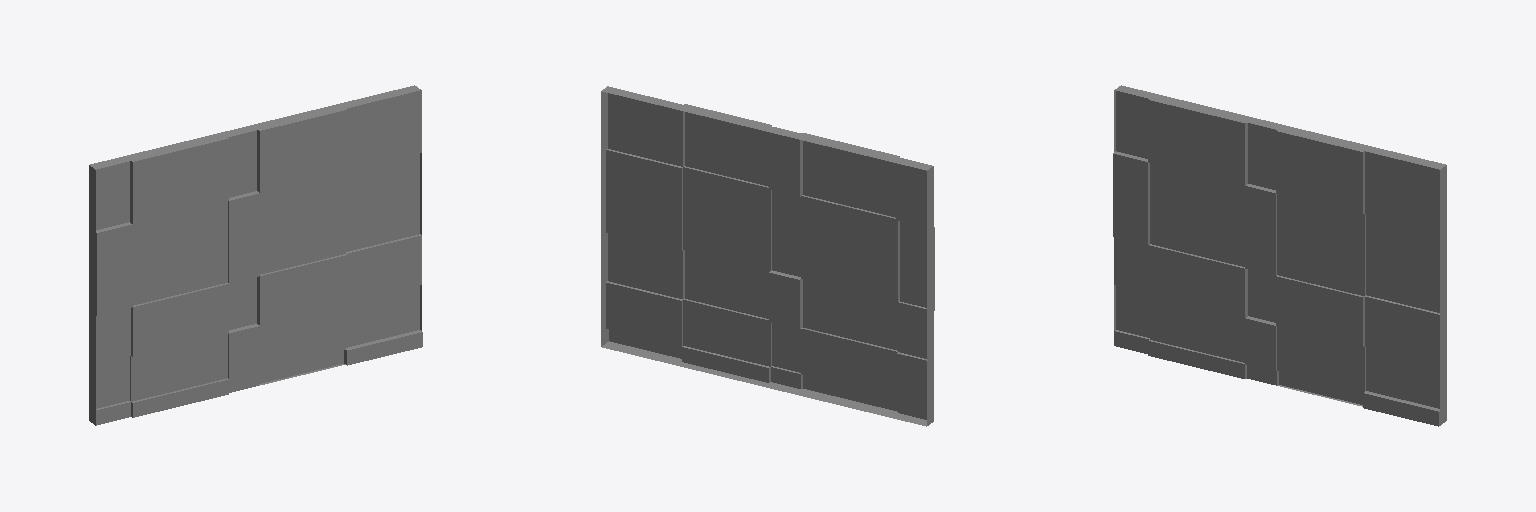
File: Floor.obj
3 renders of one model, left to right at view 1: azimuth 30°, elevation 25°; view 2: azimuth 150°, elevation 25°; view 3: azimuth 330°, elevation 25°, orthographic.
Visible parts, largest first — view 1: Plane001; view 2: Plane001; view 3: Plane001.
Part boxes in pixels (bbox=[...]): Plane001: bbox=[89, 85, 422, 425]; Plane001: bbox=[601, 86, 934, 426]; Plane001: bbox=[1113, 85, 1446, 426].
Bounding box in the file's own units: 140 × 105 × 6.04.